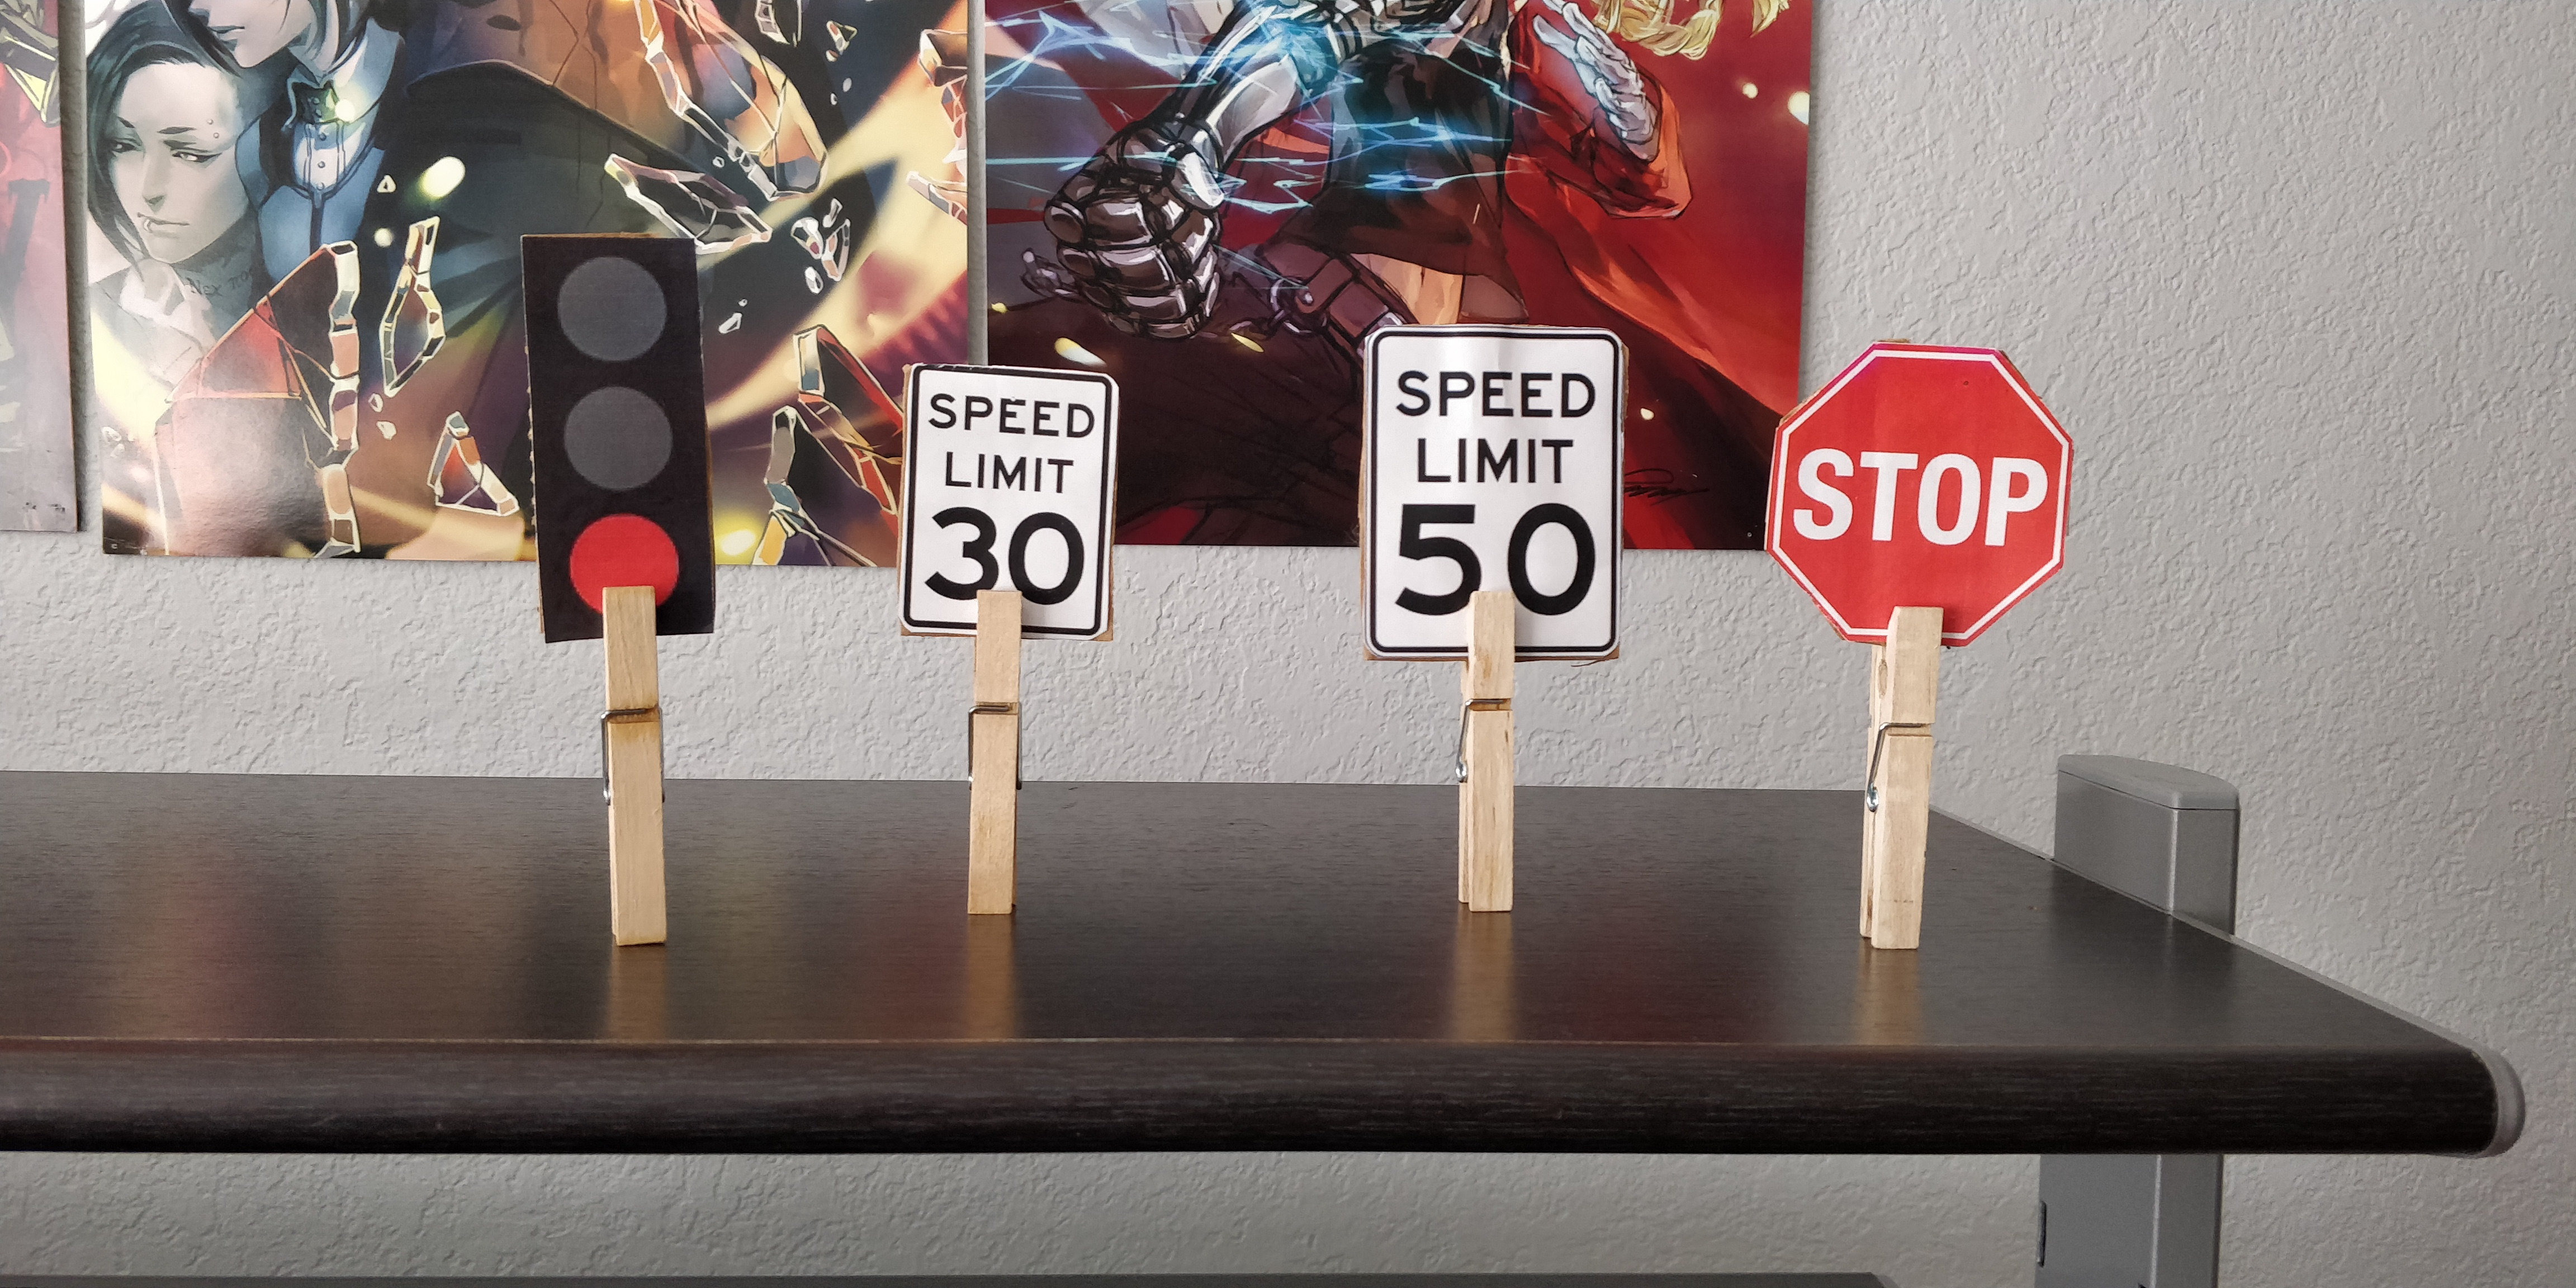Speed Limit 30: (902, 361, 1119, 642)
Speed Limit 50: (1364, 332, 1622, 660)
Stop Sign: (1769, 343, 2072, 642)
red light: (517, 237, 716, 644)
